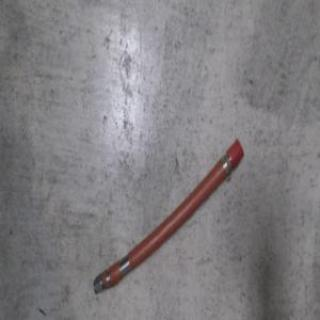Hosetrack_idkeyframe: (92, 134, 240, 296)
